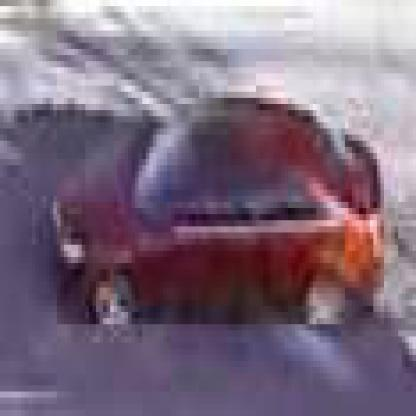car: (58, 99, 388, 331)
